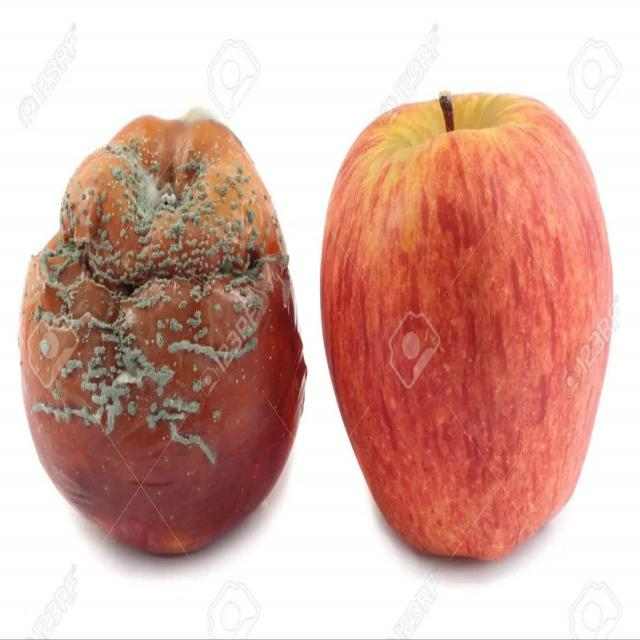fresh_apple: (322, 93, 610, 561)
rotten_apple: (18, 119, 306, 556)
